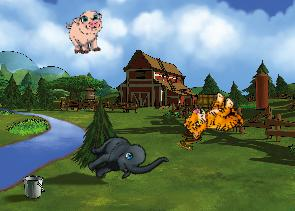elephant: (80, 116, 169, 202)
pig: (64, 9, 108, 56)
tiger: (179, 85, 249, 154)
